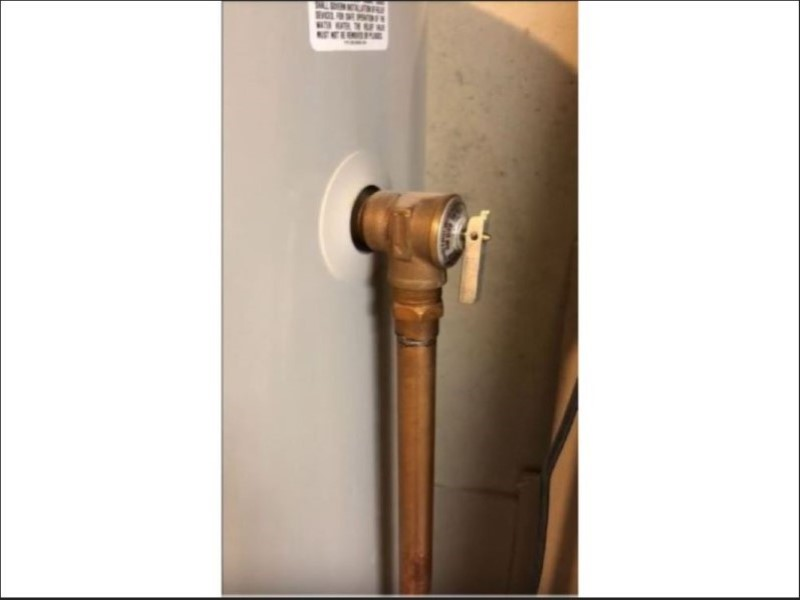Valve: (350, 183, 491, 353)
